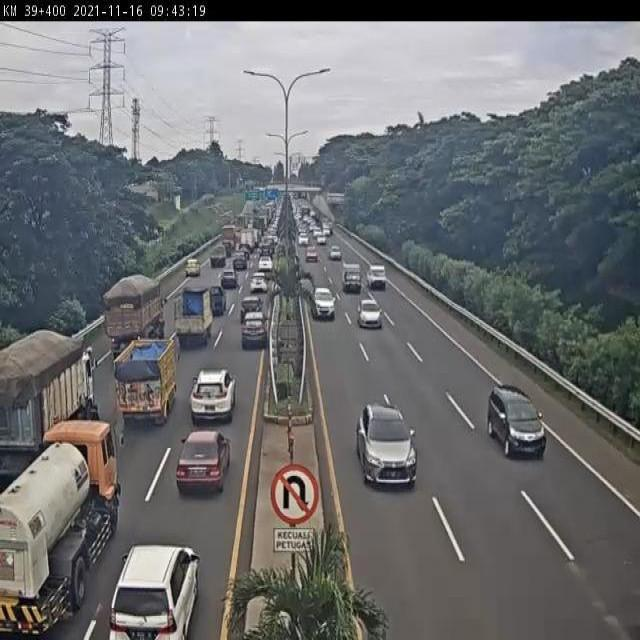car: (107, 542, 202, 640), (355, 400, 419, 491), (486, 381, 548, 464), (175, 427, 231, 500), (190, 366, 236, 430), (239, 309, 270, 351), (357, 297, 383, 328), (312, 287, 336, 319), (237, 295, 262, 325), (204, 283, 226, 316), (342, 263, 363, 297), (366, 263, 389, 292), (249, 270, 269, 294), (220, 267, 239, 291), (185, 256, 202, 279)
truck: (0, 420, 121, 640), (0, 328, 97, 476), (114, 335, 180, 423), (106, 276, 166, 357), (170, 281, 212, 343)
